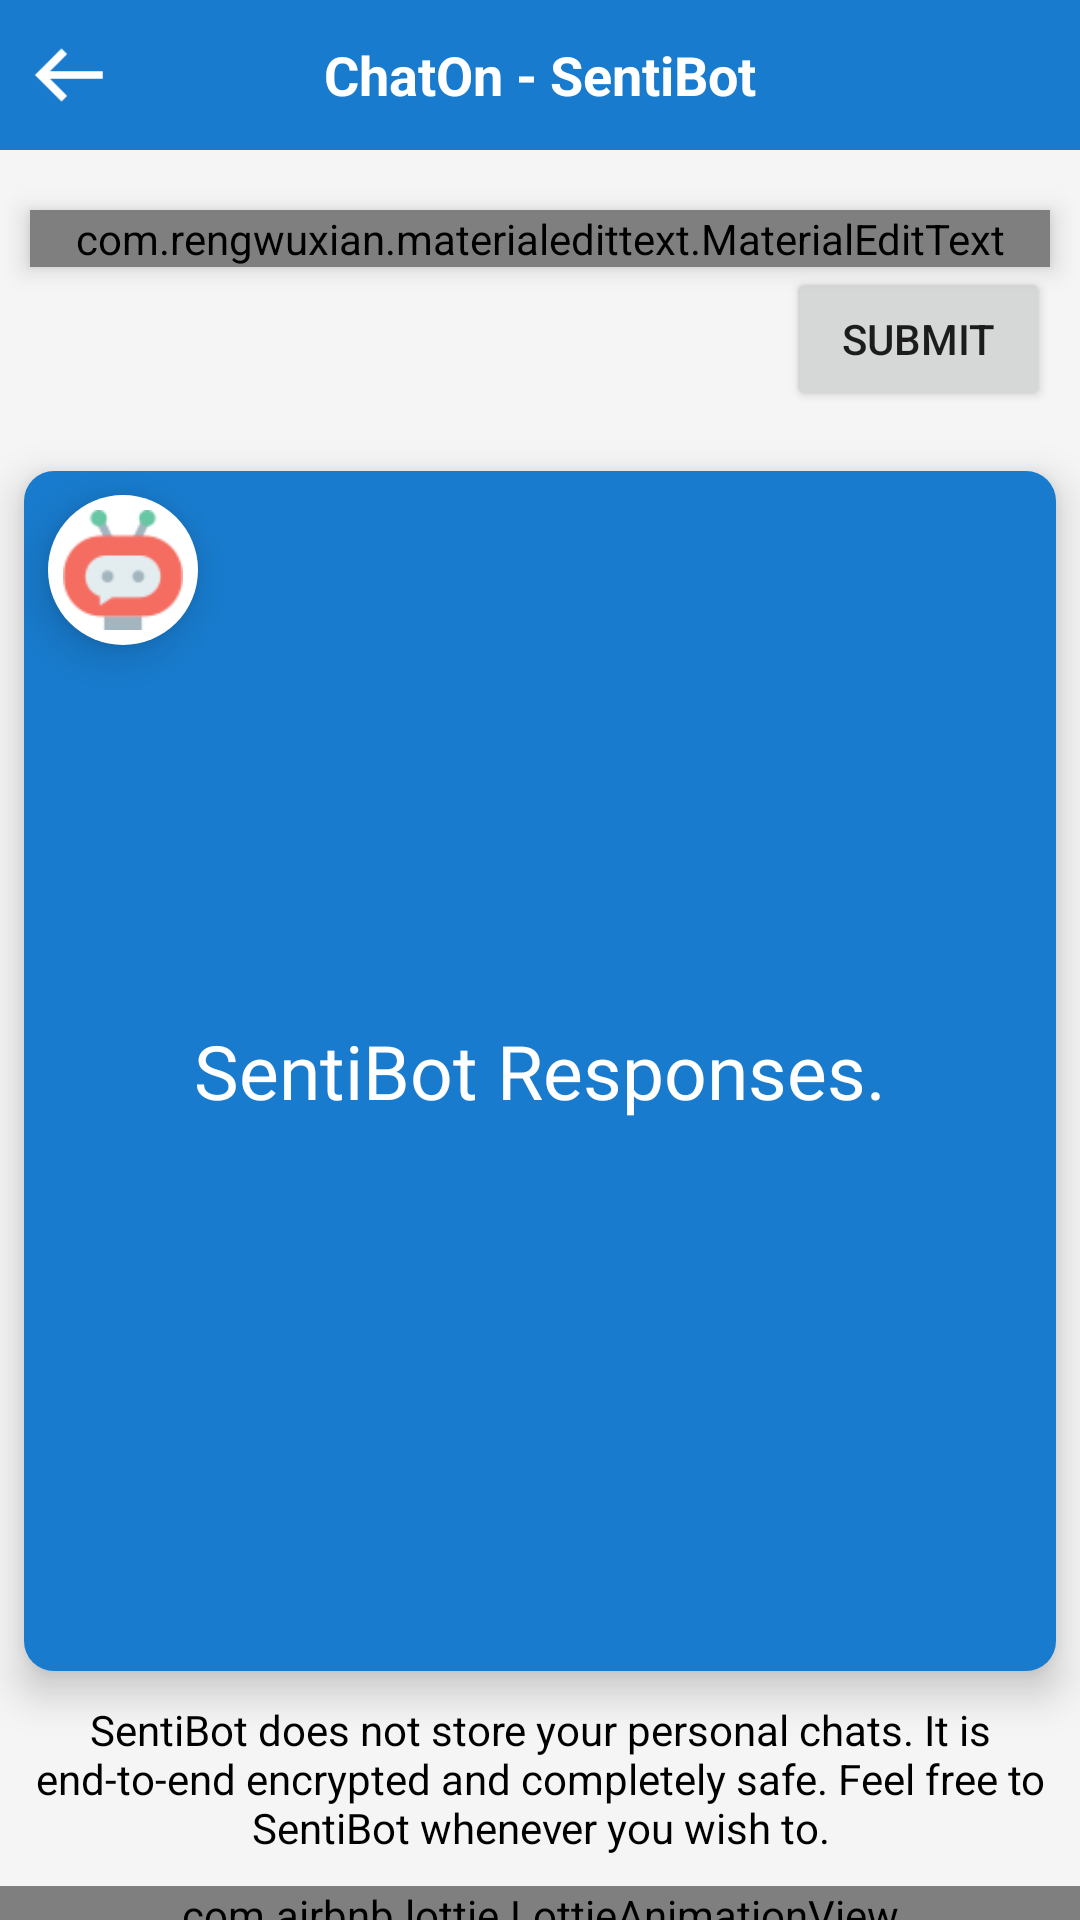

Named icons in this screenshot (1080px x 1920px) and their centers, point (x, y):
chatbot: point (123, 570)
left: point (69, 75)
